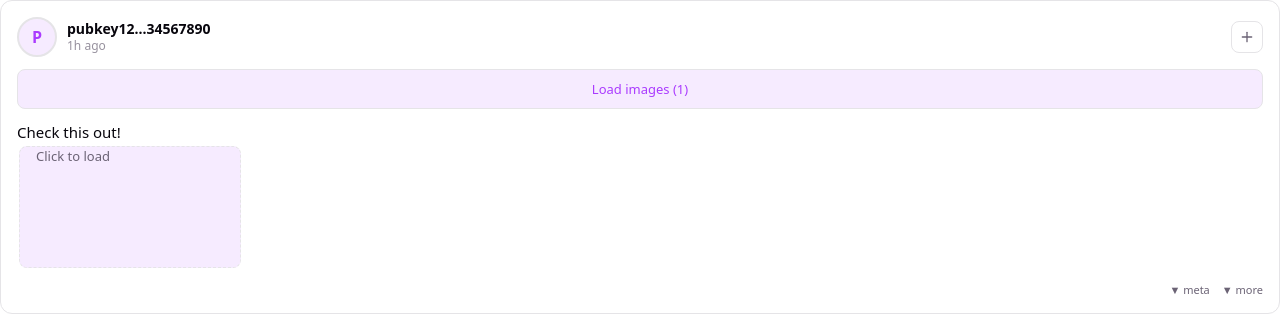
Test: NostrEventCard › should show the error message over the blurred image when the NSFW check fails
Click the button "Click to load" at (130, 206), box [19,146,241,268]
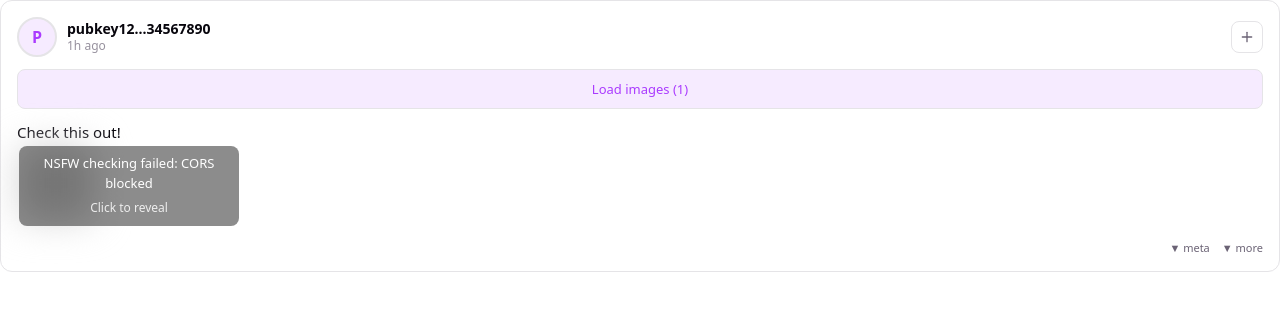
Check: the text "NSFW checking failed: CORS blocked" is shown, box [44,154,218,192]
Check: the text "Click to reveal" is shown, box [90,199,168,217]
